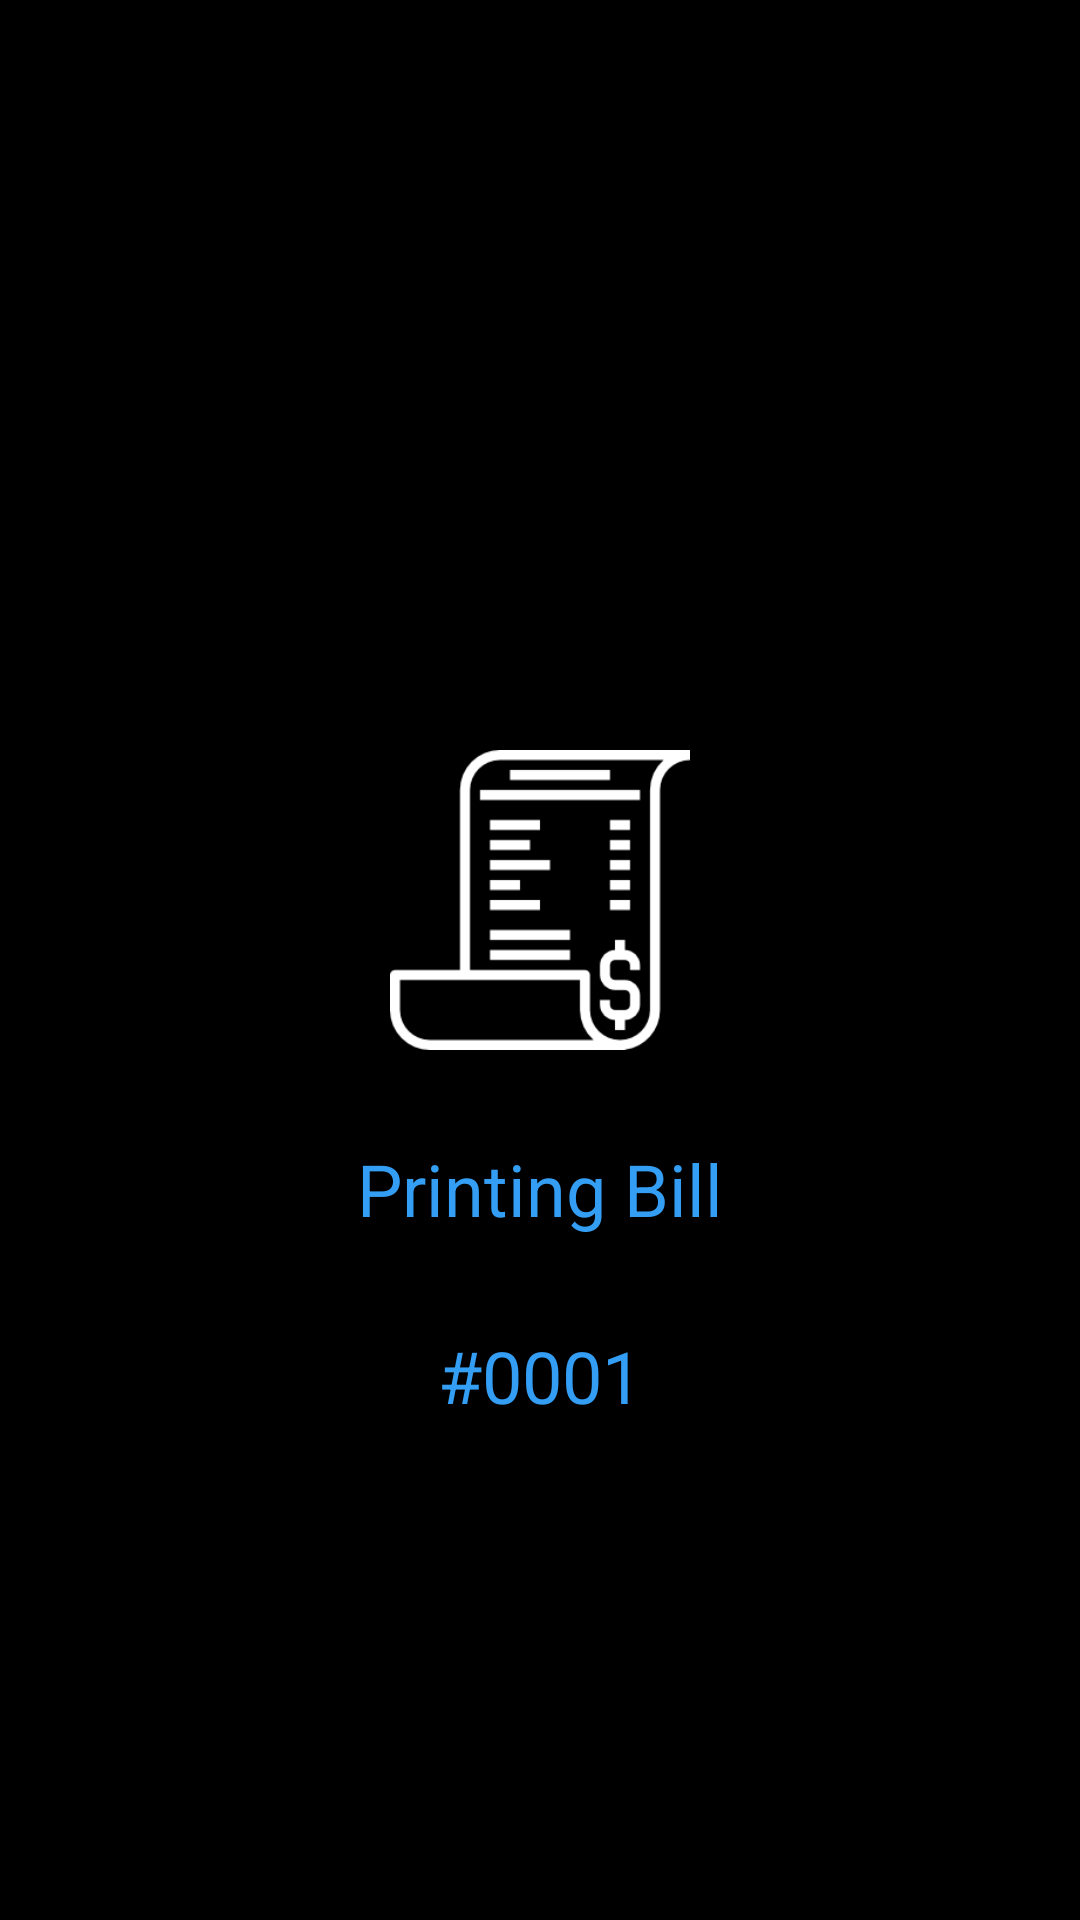

Screen size 1080w x 1920h. Icon name, then its center in pixels as point (x, y):
receipt: point (540, 900)
